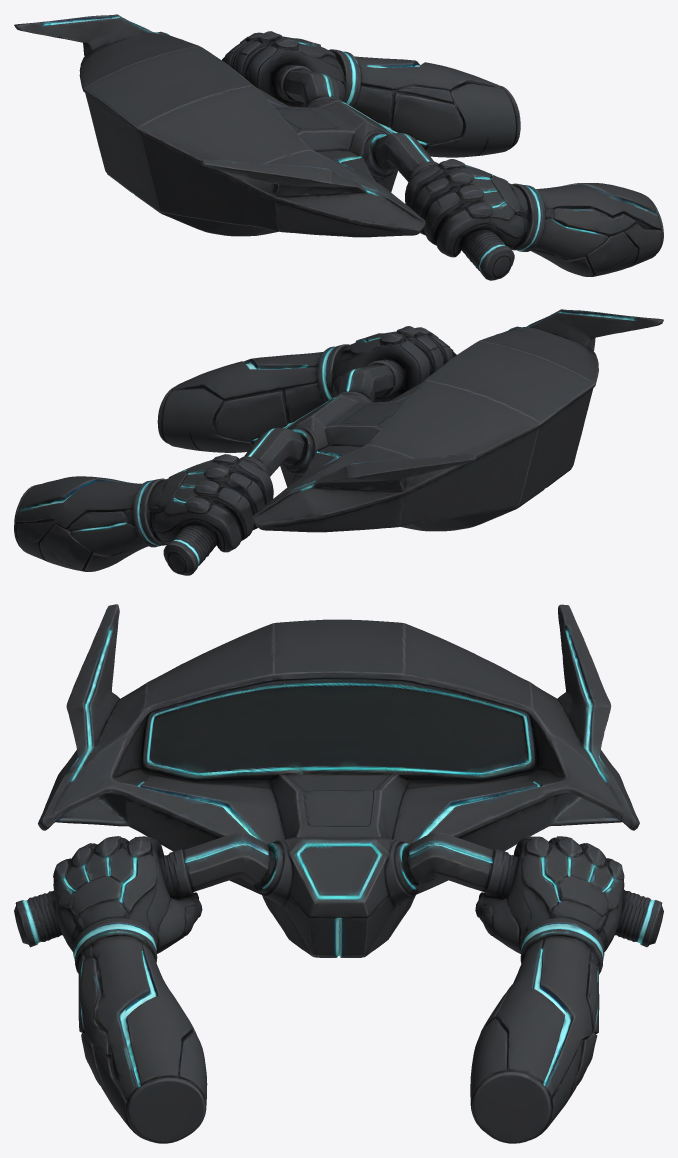
The model's file is cockpit-console.glb.
The picture shows the model from 3 angles, top to bottom: view 1: azimuth 30°, elevation 25°; view 2: azimuth 150°, elevation 25°; view 3: azimuth 270°, elevation 25°; orthographic projection. The views are drawn at different scales.
Parts seen in each view (by area): view 1: tripo_node_6ca00b92-4634-4278-bc56-9f45dd7918bf; view 2: tripo_node_6ca00b92-4634-4278-bc56-9f45dd7918bf; view 3: tripo_node_6ca00b92-4634-4278-bc56-9f45dd7918bf.
Part boxes in pixels (bbox=[...]): tripo_node_6ca00b92-4634-4278-bc56-9f45dd7918bf: bbox=[14, 14, 663, 280]; tripo_node_6ca00b92-4634-4278-bc56-9f45dd7918bf: bbox=[14, 309, 663, 575]; tripo_node_6ca00b92-4634-4278-bc56-9f45dd7918bf: bbox=[14, 604, 663, 1143].
Bounding box in the file's own units: 1 × 0.4552 × 0.9935.
Materials: 1 (1 with a texture image).
